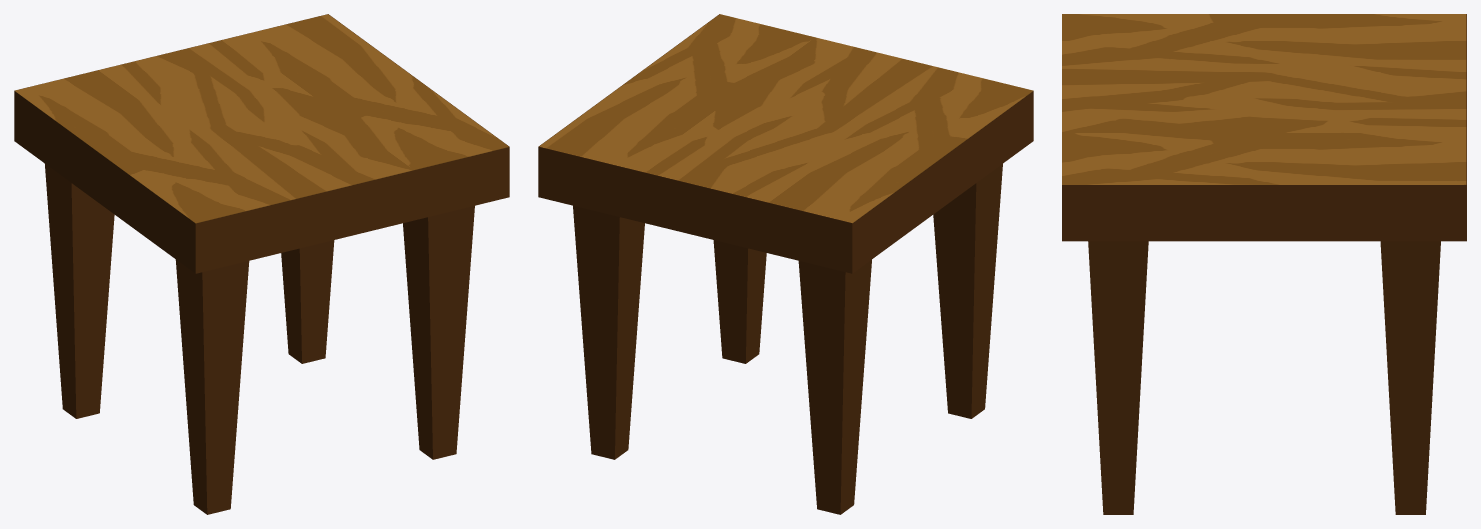
The model's file is Chair.fbx.
The picture shows the model from 3 angles, left to right: view 1: azimuth 30°, elevation 25°; view 2: azimuth 150°, elevation 25°; view 3: azimuth 270°, elevation 25°; orthographic projection. The views are drawn at different scales.
Parts seen in each view (by area): view 1: Box020; view 2: Box020; view 3: Box020.
Boxes of the visible parts, x1,y1,x2,y2 form: Box020: (14, 14, 509, 514); Box020: (538, 14, 1033, 514); Box020: (1062, 14, 1466, 514).
Bounding box in the file's own units: 11.85 × 11.27 × 11.85.
Materials: 1 (1 with a texture image).
